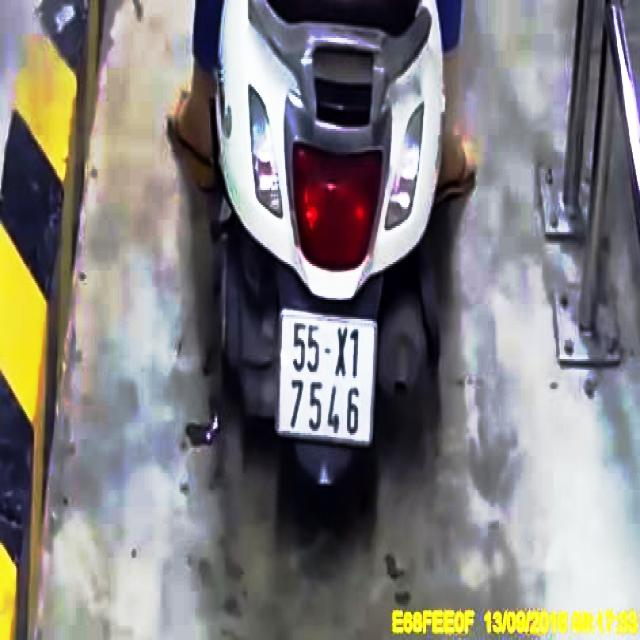license_plate: (276, 311, 379, 446)
